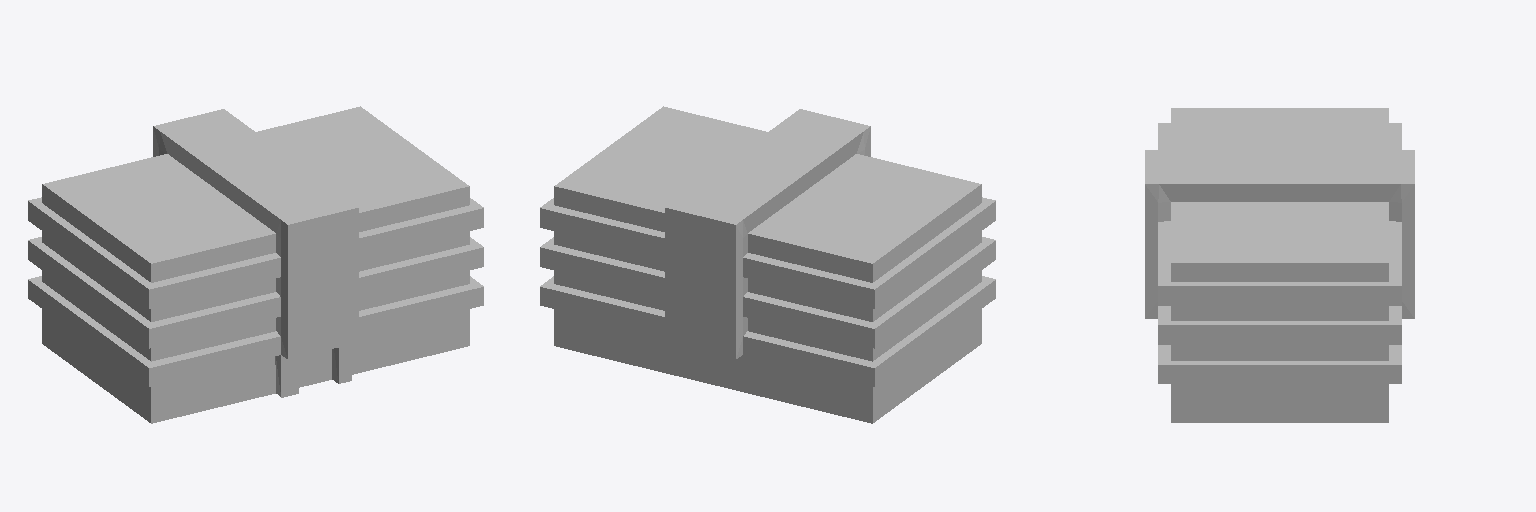
The model's file is Praca3.obj.
The picture shows the model from 3 angles: view 1: azimuth 30°, elevation 25°; view 2: azimuth 150°, elevation 25°; view 3: azimuth 270°, elevation 25°; orthographic projection.
Visible parts, largest first — view 1: Praca_Cube.003; view 2: Praca_Cube.003; view 3: Praca_Cube.003.
Part boxes in pixels (left/top/right/bottom): Praca_Cube.003: left=28, top=106, right=483, bottom=423; Praca_Cube.003: left=540, top=106, right=995, bottom=423; Praca_Cube.003: left=1145, top=108, right=1414, bottom=422.
Size of the model in its own units: 16.87 by 8.57 by 11.76.